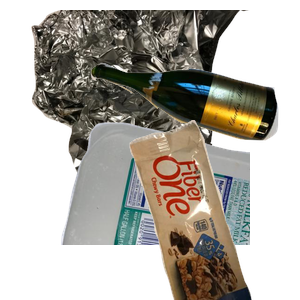glass: (88, 60, 300, 193)
metal: (29, 10, 269, 190)
plastic: (58, 120, 298, 300)
trash: (127, 120, 300, 300)
